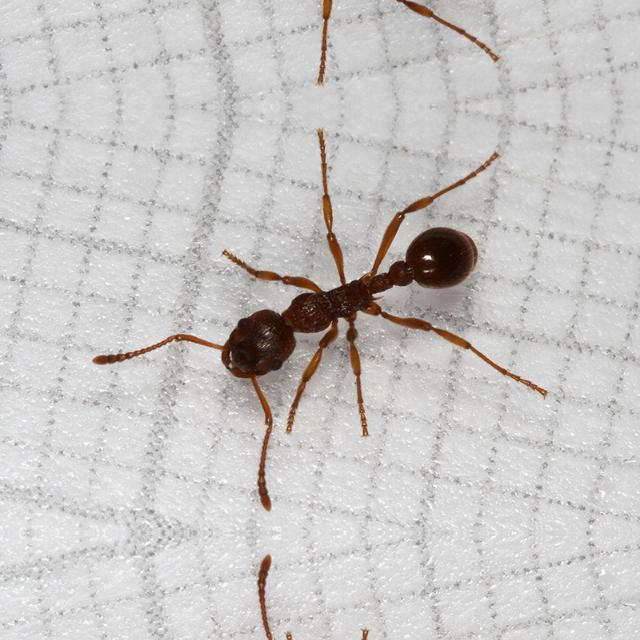Myrmica: (144, 164, 516, 466)
